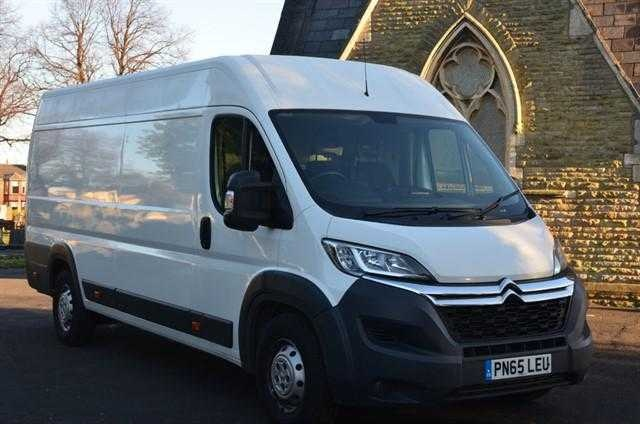van: (26, 55, 594, 424)
